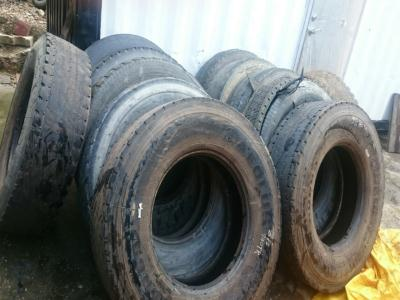plastic_bag: (364, 234, 400, 300)
tire: (75, 92, 284, 293), (267, 100, 389, 292), (2, 27, 93, 247)
